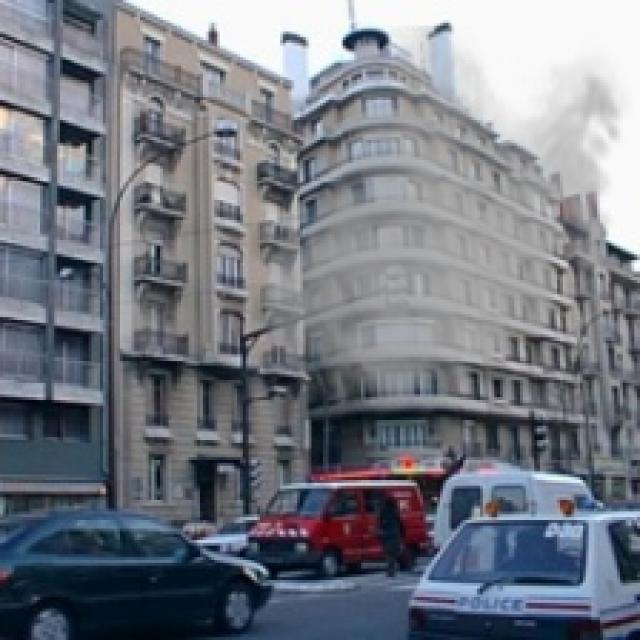Smoke: (252, 26, 634, 426)
